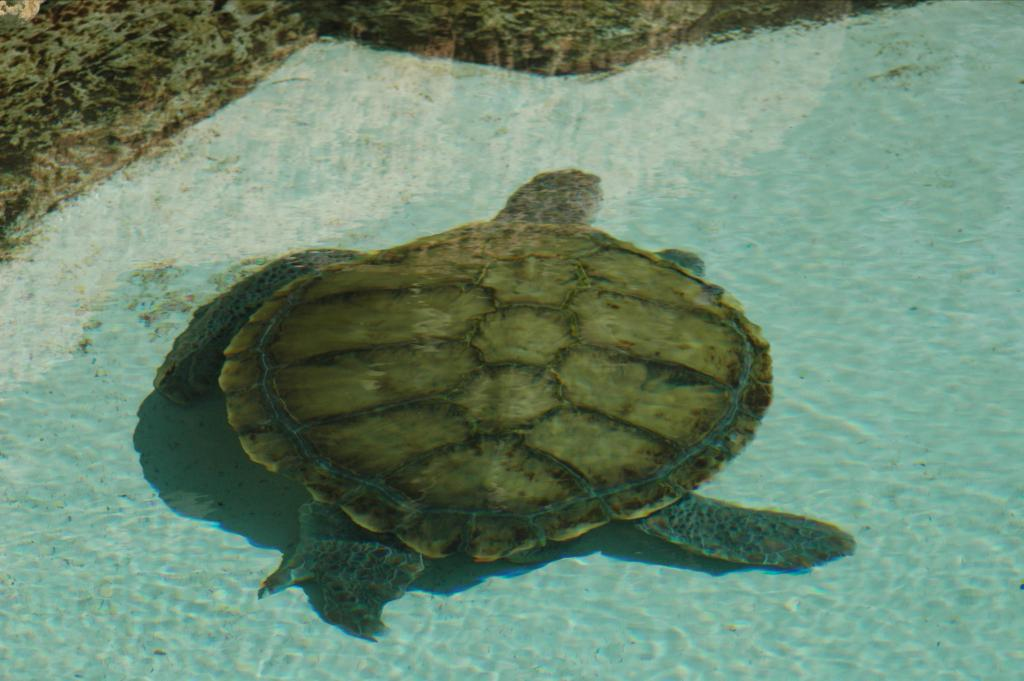Sea turtles: (146, 162, 855, 647)
